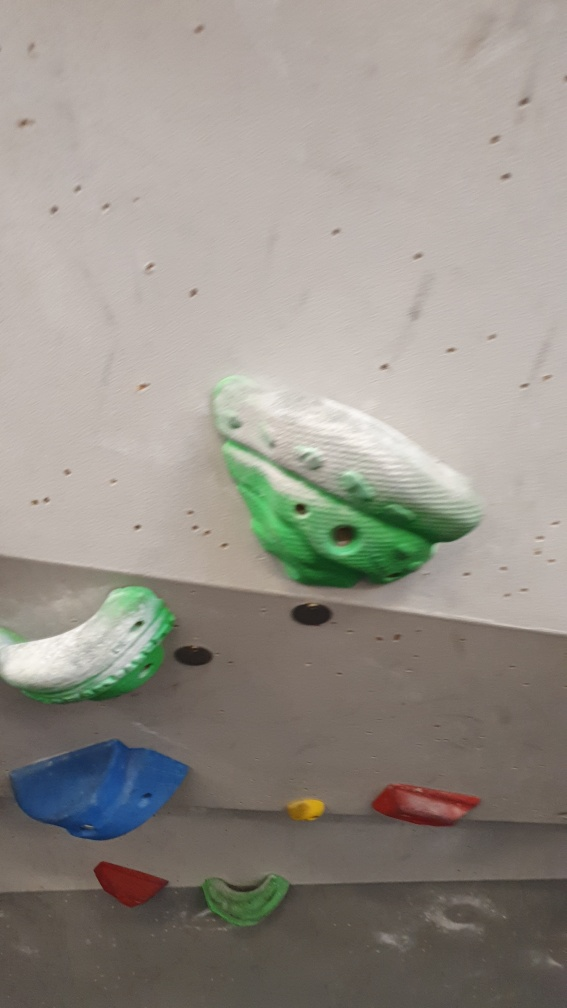Crimp: (371, 776, 483, 836)
Hand Start: (287, 594, 342, 634), (170, 640, 216, 673)
Jug: (210, 372, 487, 599), (1, 575, 179, 709), (196, 865, 297, 928)
Pinch: (6, 741, 195, 841)
